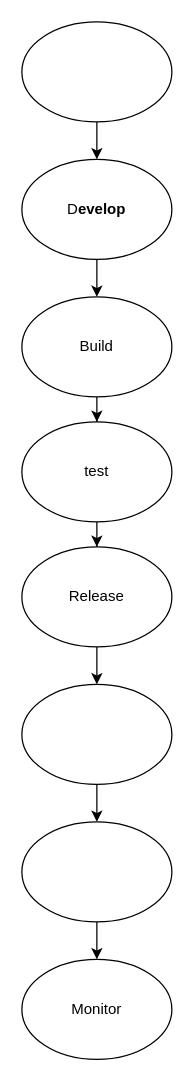
Some shapes in this 194 by 1081 pixel diagram are drawn without their labels. Each missing label, with the centre of its shape:
Deploy: pixel 96 733
Operate: pixel 96 871
Plan: pixel 96 71
